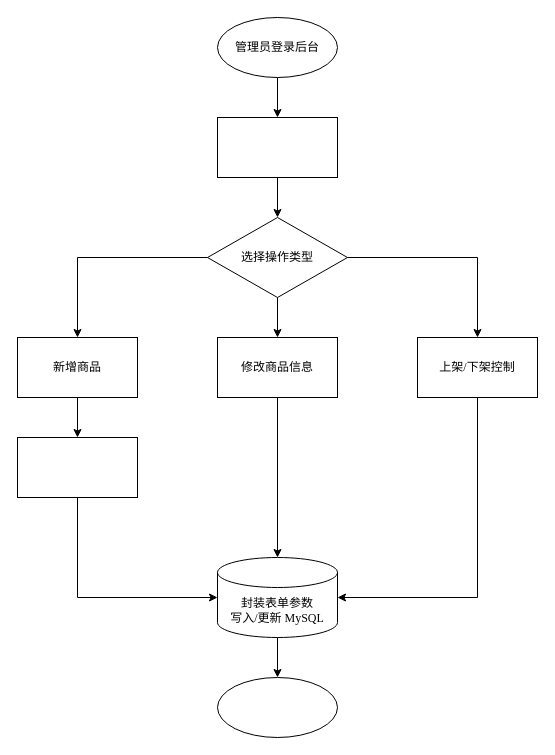
Some shapes in this 555 by 755 pixel diagram are drawn without their labels. The centre of each missing label's shape, as x and y in pixels:
OSS上传附图 返回URL: the point at 77,467
操作完成: the point at 277,707
进入商品管理模块: the point at 277,147
